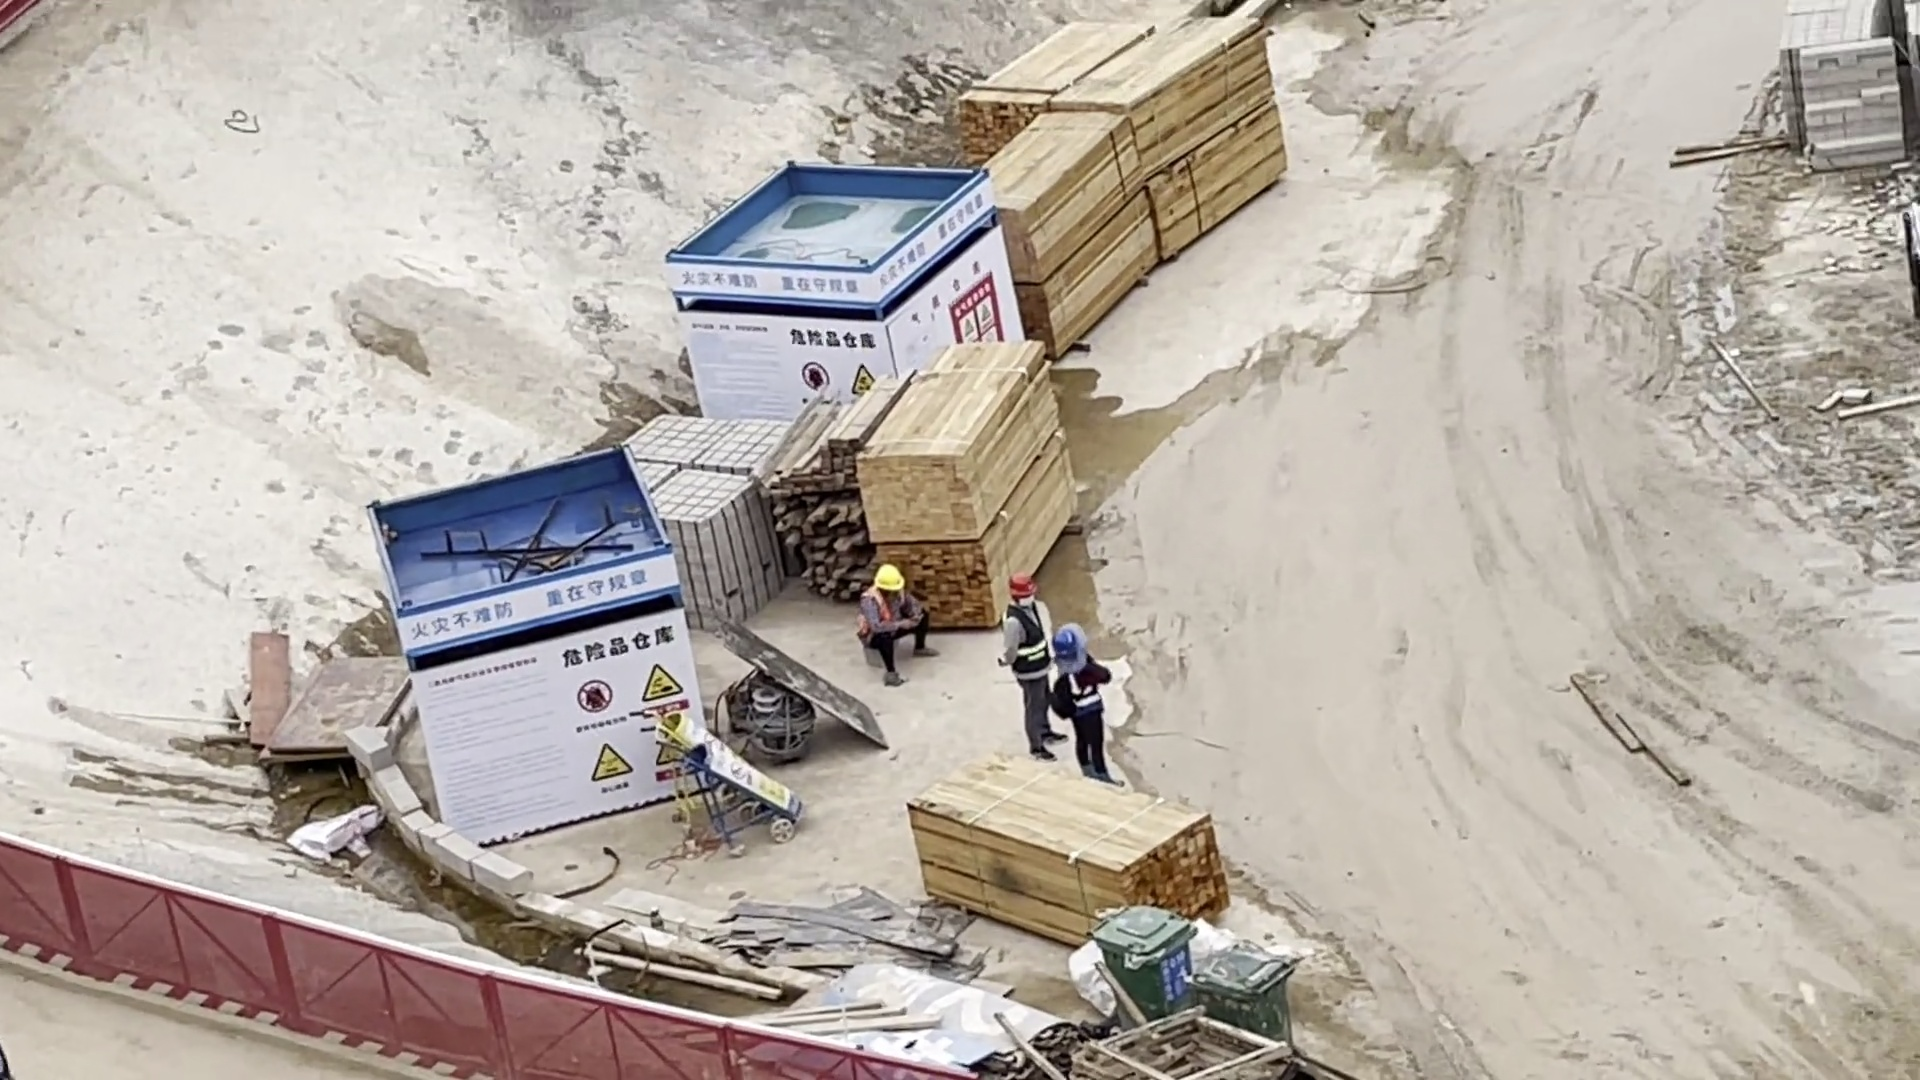brick: (1780, 1, 1920, 189)
fence: (1, 840, 895, 1080)
helmet: (862, 558, 915, 593), (1040, 625, 1084, 658), (1003, 571, 1038, 598)
person: (1047, 621, 1129, 803), (835, 551, 933, 670), (994, 579, 1058, 756)
slogan: (404, 572, 709, 654), (668, 249, 875, 308), (880, 231, 996, 286)
vest: (1002, 607, 1050, 683), (858, 593, 918, 654), (1053, 660, 1104, 716)
wood: (986, 20, 1293, 359), (776, 356, 1066, 628), (918, 781, 1234, 930)
